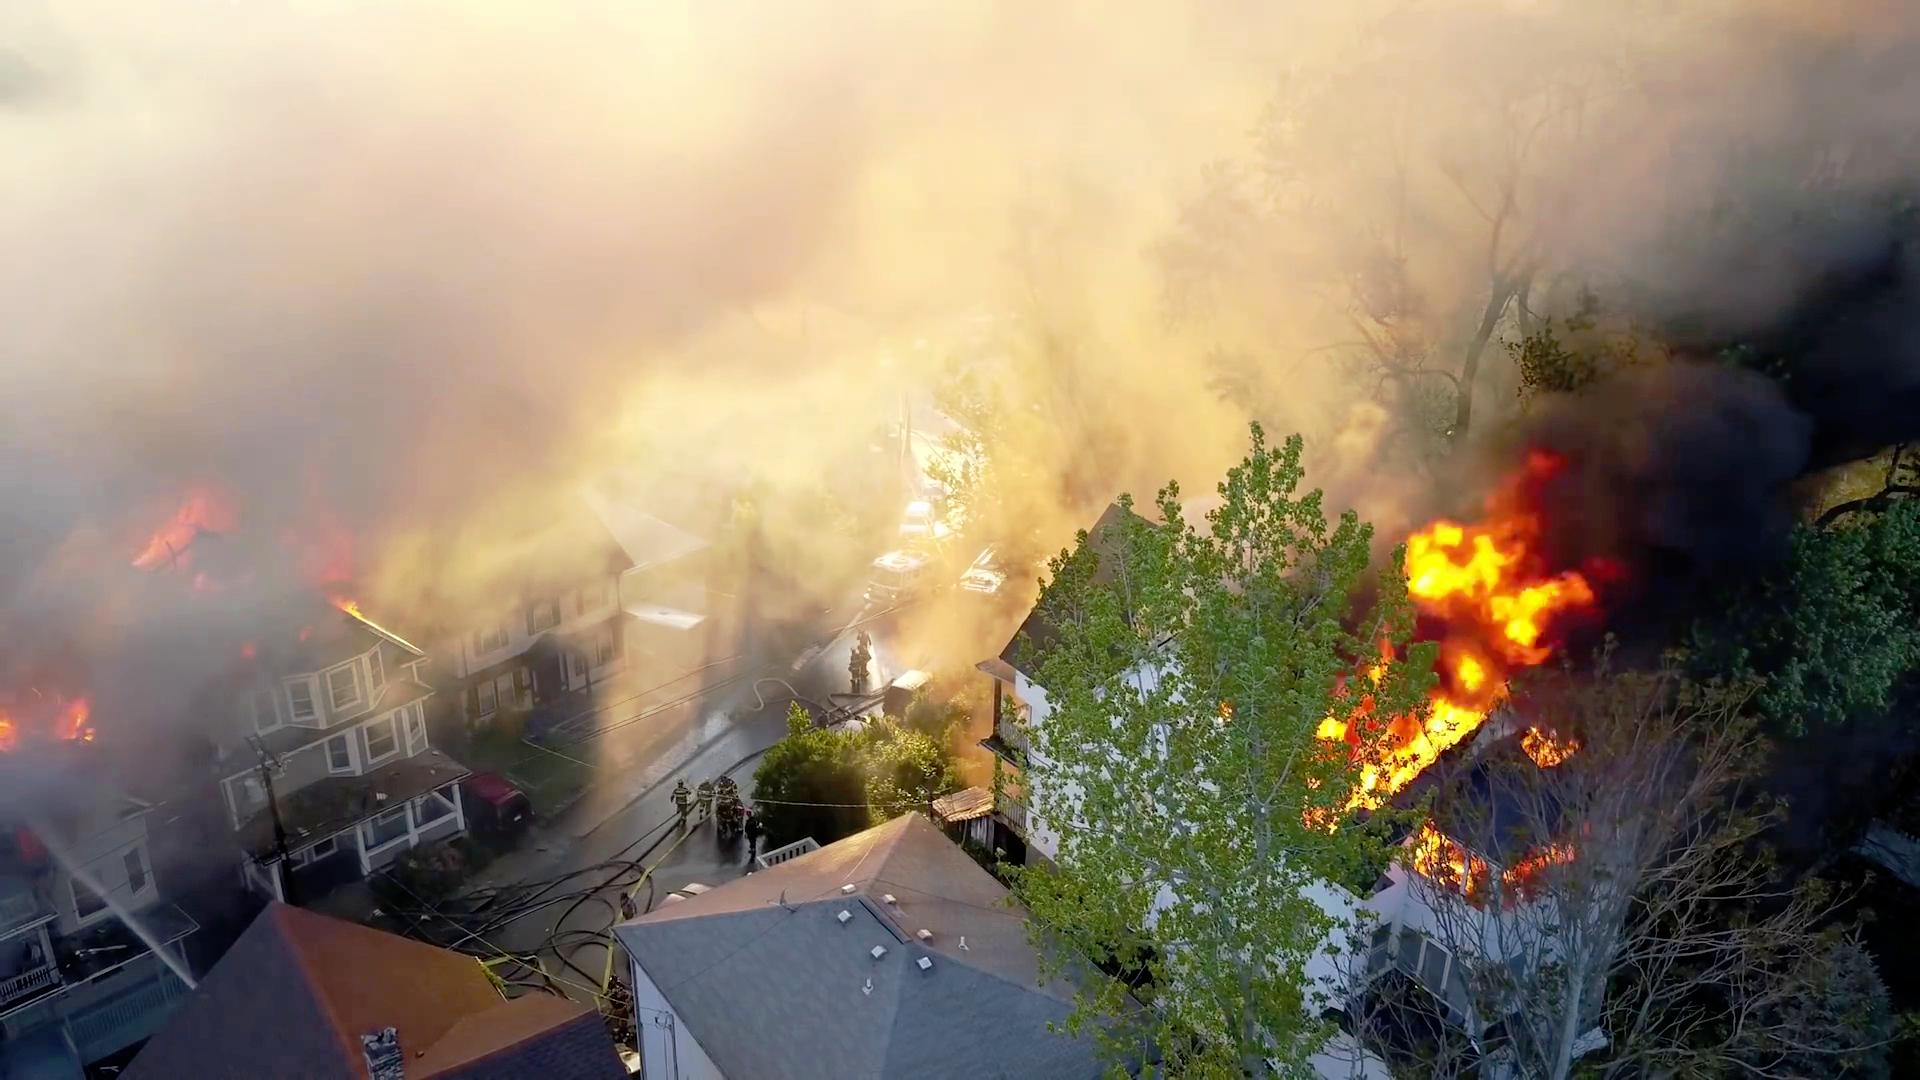fire: (1356, 473, 1540, 816)
smoke: (0, 0, 638, 385), (1513, 153, 1920, 584)
